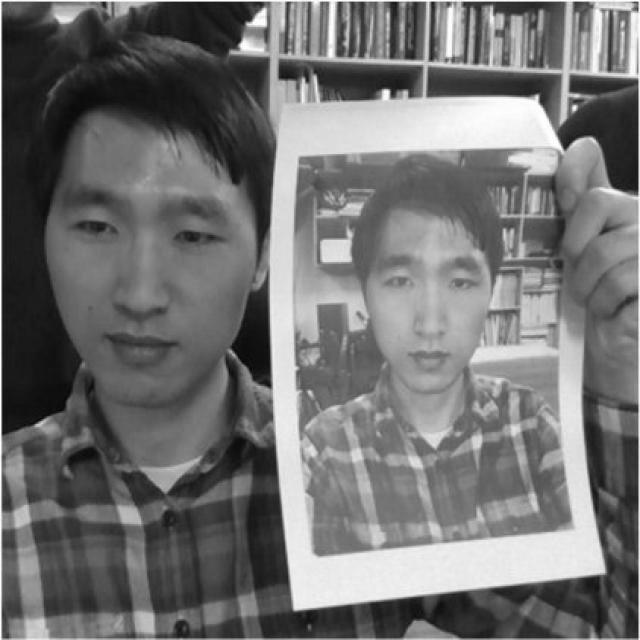fake: (270, 96, 613, 608)
real: (34, 40, 254, 432)
